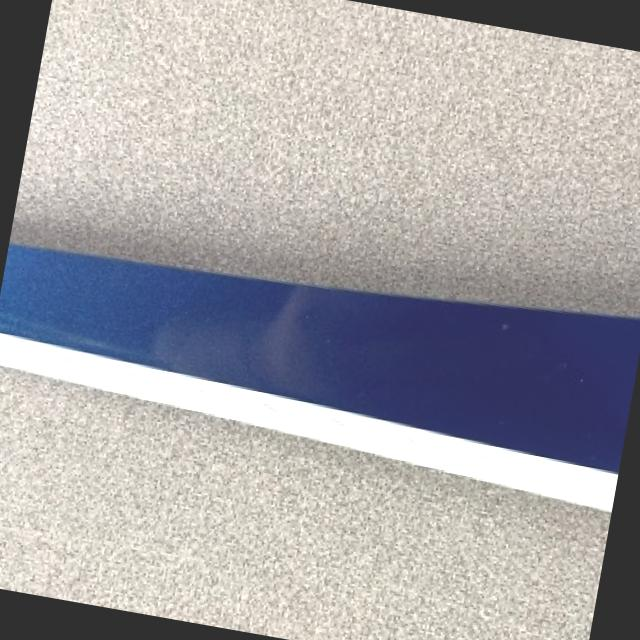healthy: (0, 244, 640, 508)
